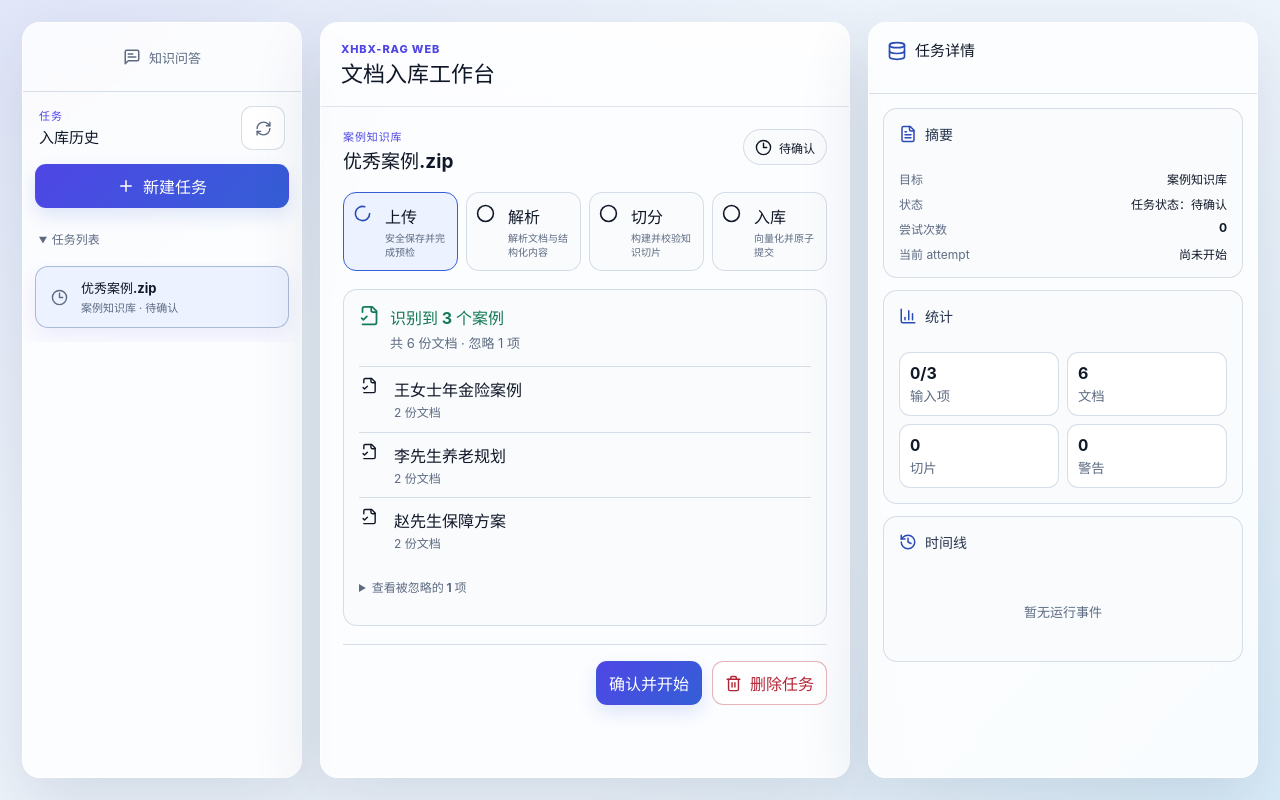
Test: 动作失败且对账失败时保留旧详情并提供非阻断重载
Click the button "确认并开始".
click(649, 683)  # box [596,661,702,705]
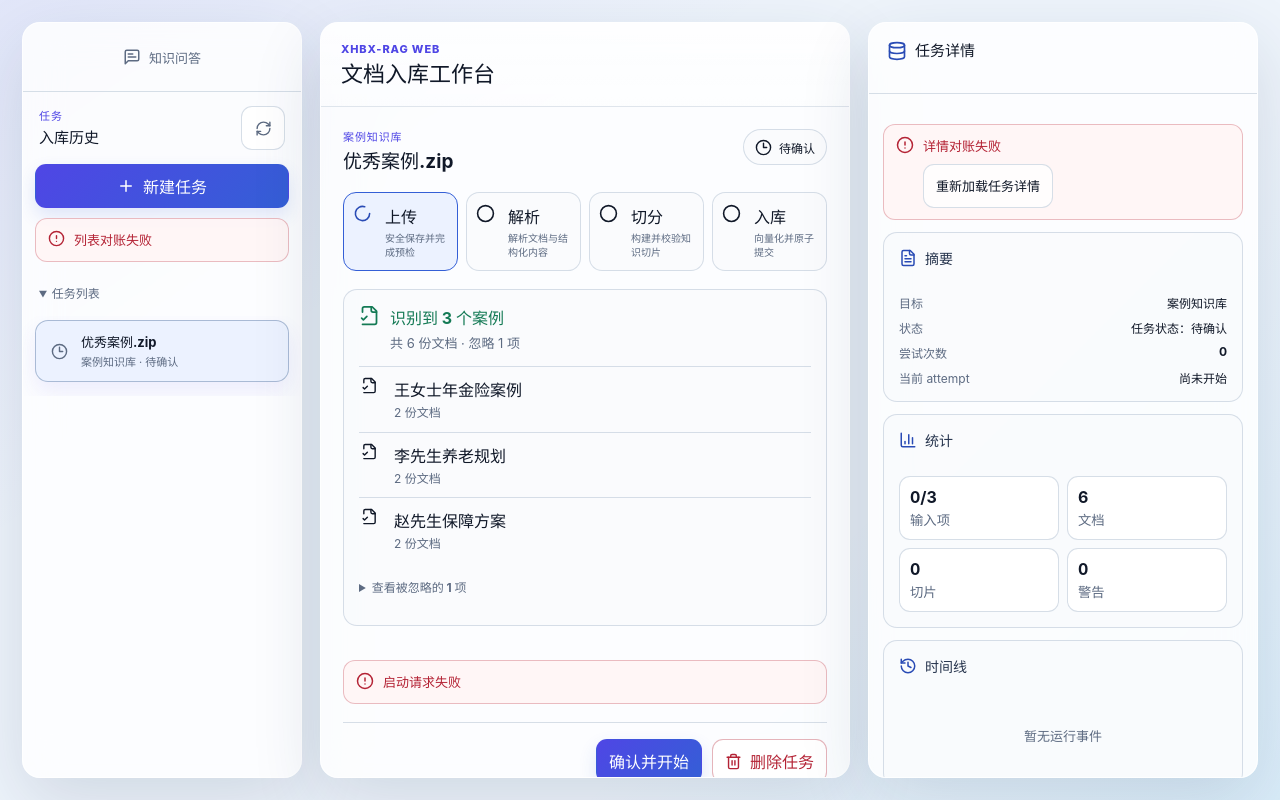
Result: the text "启动请求失败" is shown at [383,672,461,692]
Result: the text "详情对账失败" is shown at [923,138,1001,154]
Result: the button "重新加载任务详情" is shown at [923,164,1053,208]
